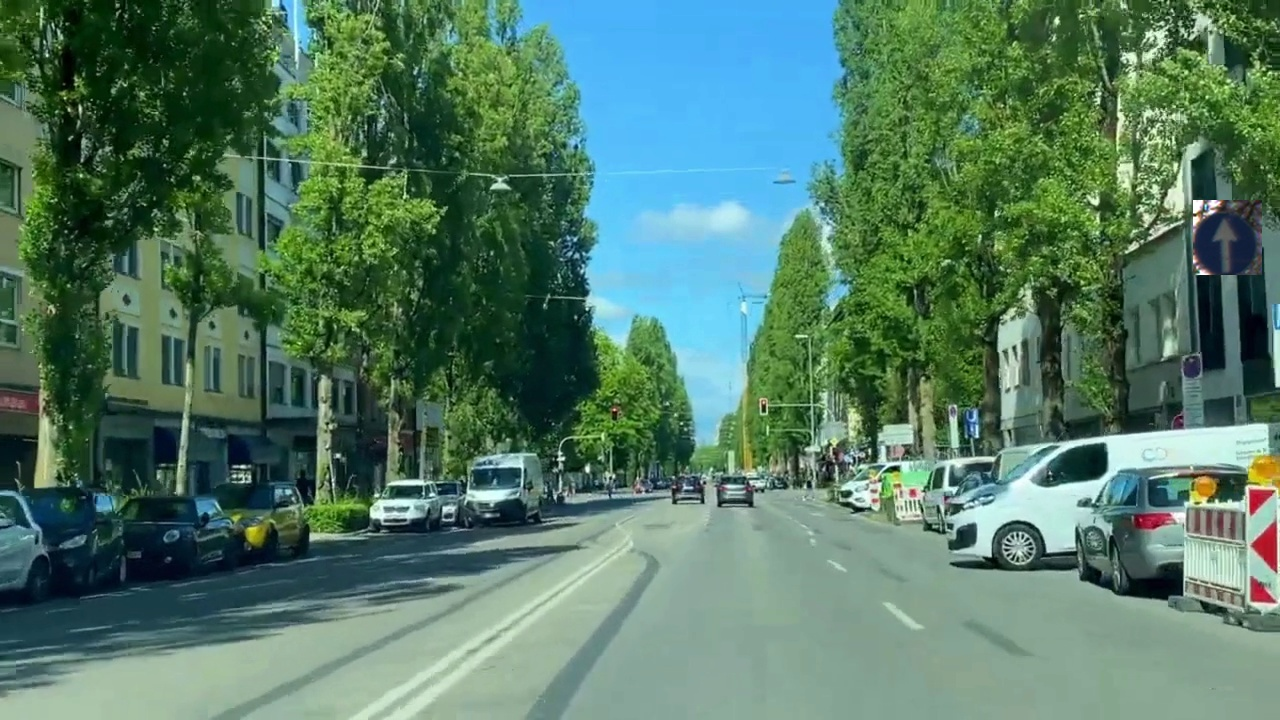Ahead only: (1193, 200, 1262, 275)
